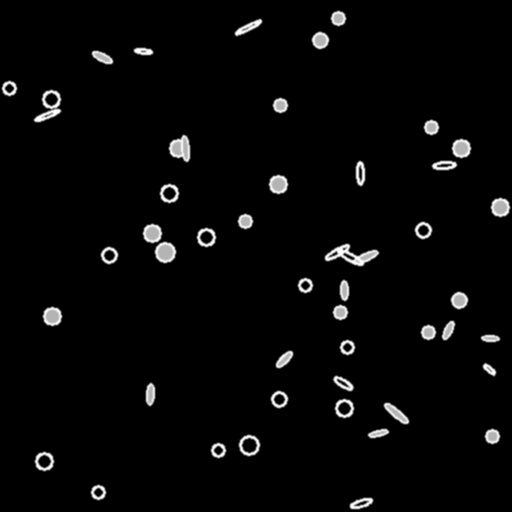pseudomonas: (383, 401, 409, 425), (336, 248, 364, 266), (234, 18, 262, 36), (352, 248, 378, 266), (324, 243, 350, 261), (274, 349, 294, 369), (34, 108, 60, 122), (349, 496, 373, 510), (92, 49, 112, 65), (333, 375, 353, 391), (441, 321, 455, 339), (368, 428, 388, 438), (482, 362, 496, 376), (181, 136, 189, 160), (433, 161, 455, 169), (146, 383, 154, 405), (340, 280, 348, 300), (357, 161, 363, 185), (134, 48, 152, 54), (482, 335, 498, 341)
synechocystis: (156, 243, 174, 261), (240, 436, 258, 454), (170, 140, 186, 156), (492, 199, 508, 215), (44, 308, 60, 324), (453, 140, 469, 156), (36, 453, 52, 469), (270, 176, 286, 192), (198, 229, 214, 245), (43, 91, 59, 107), (144, 225, 160, 241), (161, 185, 177, 201), (336, 400, 352, 416), (452, 293, 466, 307), (102, 248, 116, 262), (272, 392, 286, 406), (416, 223, 430, 237), (313, 33, 327, 47), (341, 341, 353, 353), (422, 326, 434, 338), (332, 12, 344, 24), (212, 444, 224, 456), (239, 215, 251, 227), (299, 279, 311, 291), (92, 486, 104, 498), (334, 306, 346, 318), (486, 430, 498, 442), (274, 99, 286, 111), (3, 82, 15, 94), (425, 121, 437, 133)
